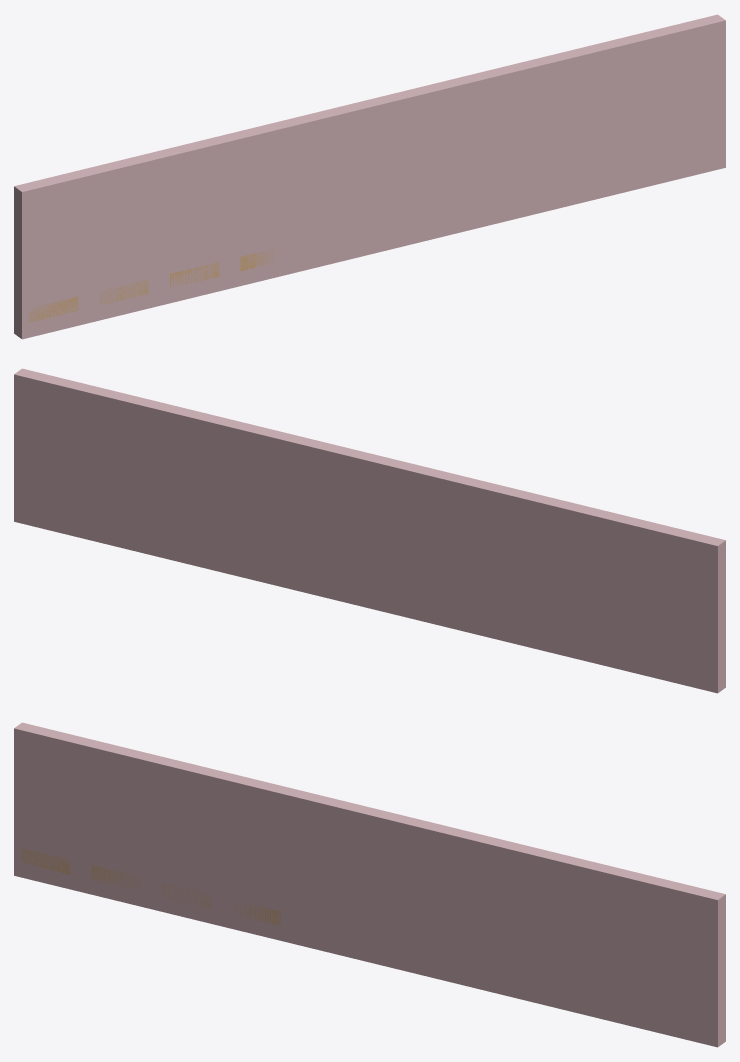
File: board.glb
The picture shows the model from 3 angles, top to bottom: view 1: azimuth 30°, elevation 25°; view 2: azimuth 150°, elevation 25°; view 3: azimuth 330°, elevation 25°; orthographic projection.
Visible parts, largest first — view 1: Substrate_Layer_0, Substrate_Layer_1, Substrate_Layer_3, Substrate_Layer_2; view 2: Substrate_Layer_0; view 3: Substrate_Layer_0, Substrate_Layer_1.
Part boxes in pixels (x1,y1,x2,y2): Substrate_Layer_0: (14,14,725,339); Substrate_Layer_1: (29,296,78,322); Substrate_Layer_3: (170,262,219,288); Substrate_Layer_2: (99,279,148,305); Substrate_Layer_0: (14,368,725,693); Substrate_Layer_0: (14,722,725,1047); Substrate_Layer_1: (21,848,70,874).
Size of the model in its own units: 0.1 by 0.02 by 0.002.
